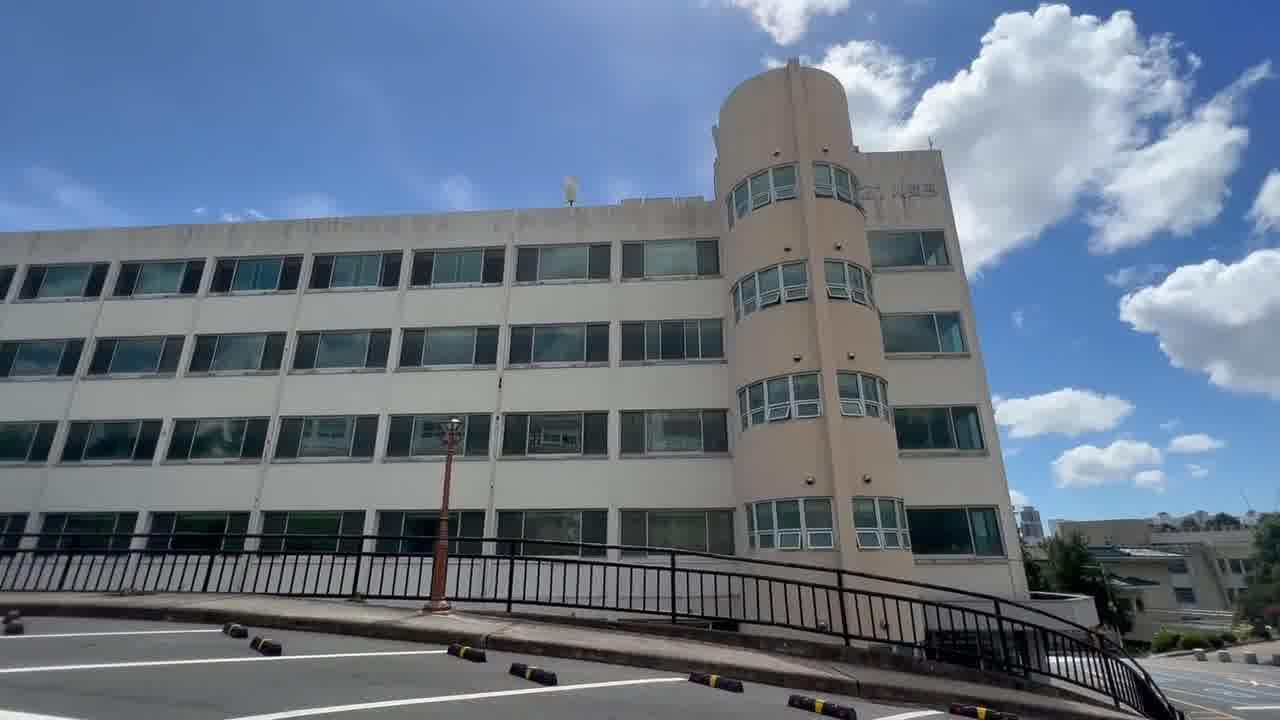building: (40, 92, 1014, 599)
